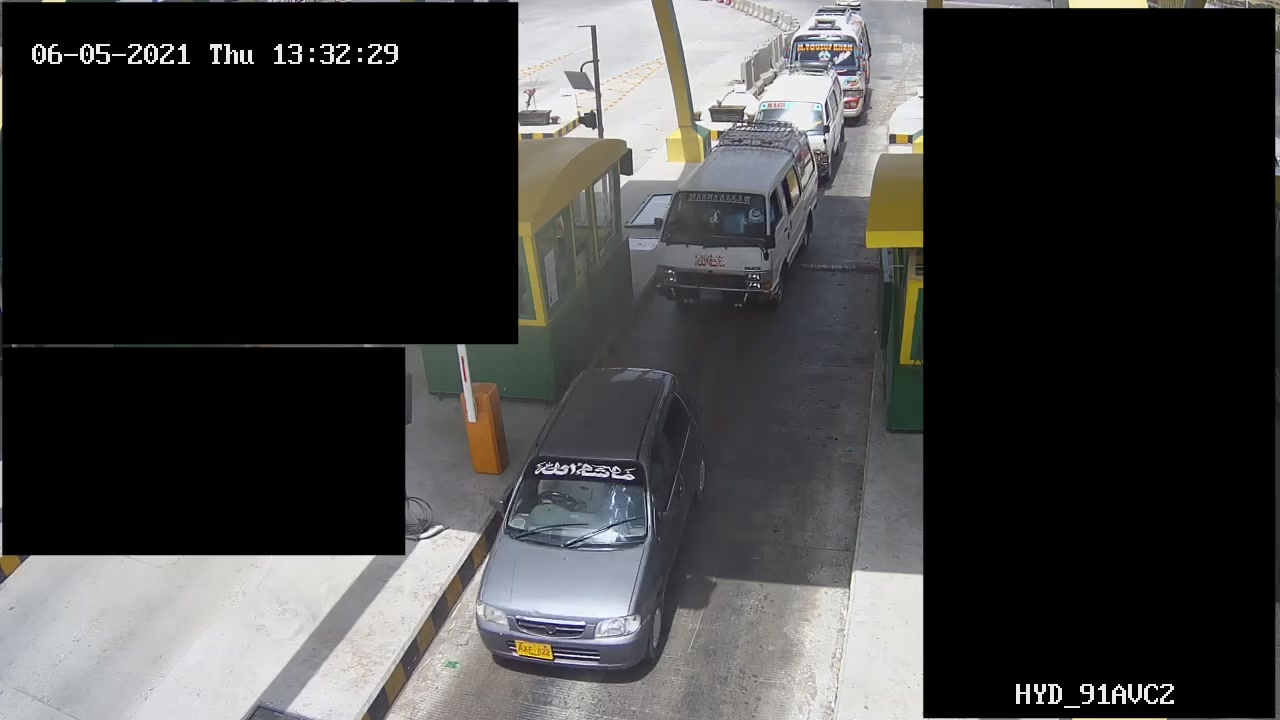F2: (653, 125, 818, 317)
